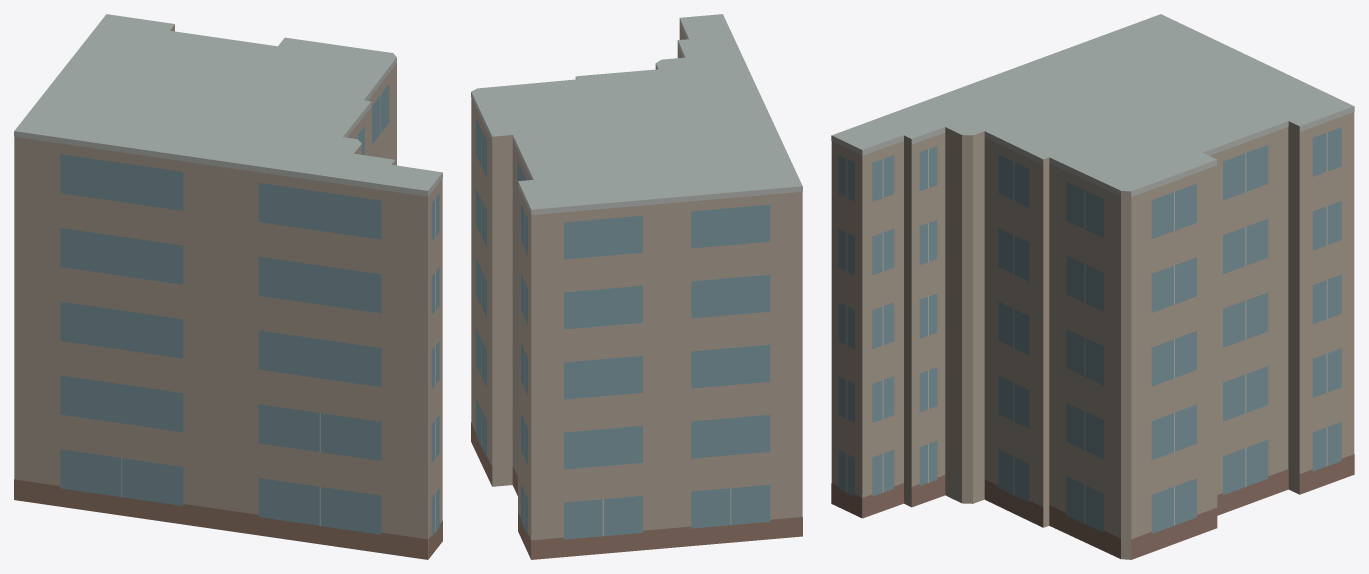
The model's file is survey-upis-32687371.glb.
3 views of the same model, side by side, from view 1: azimuth 30°, elevation 25°; view 2: azimuth 150°, elevation 25°; view 3: azimuth 270°, elevation 25° (orthographic). The views are drawn at different scales.
Visible parts, largest first — view 1: survey-upis-32687371.tmp; view 2: survey-upis-32687371.tmp; view 3: survey-upis-32687371.tmp.
Part boxes in pixels (x1=…): survey-upis-32687371.tmp: x1=14, y1=14, x2=442, y2=559; survey-upis-32687371.tmp: x1=471, y1=14, x2=802, y2=559; survey-upis-32687371.tmp: x1=831, y1=14, x2=1354, y2=559.
Size of the model in its own units: 16.28 by 15.75 by 20.27.
